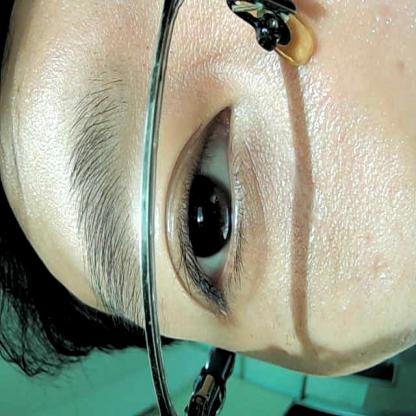Straight: (158, 97, 262, 320)
